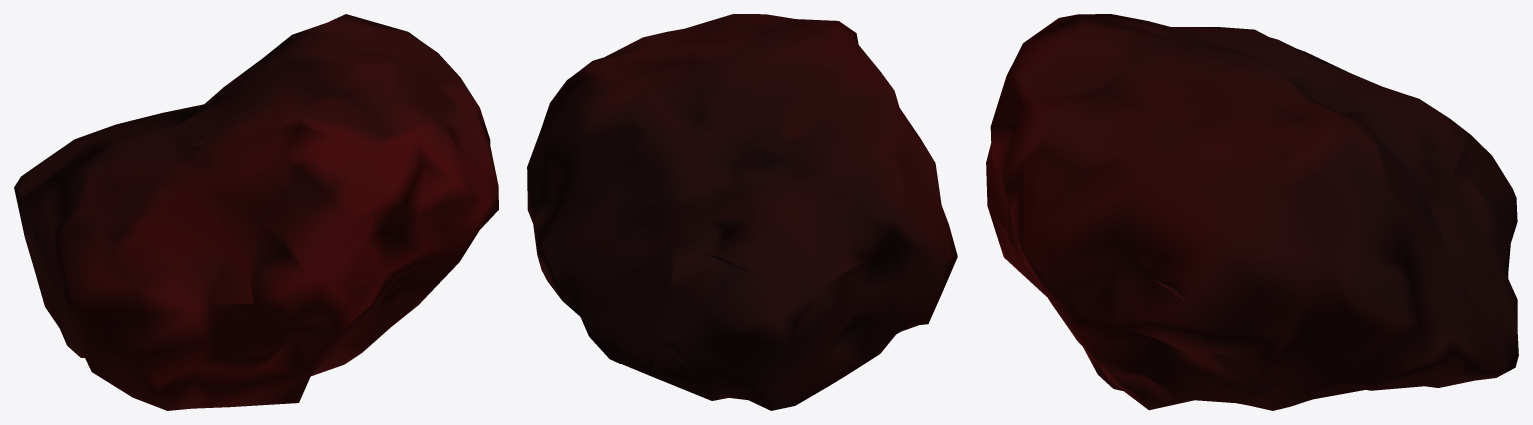
File: geology-rocks-meteoritemedium_v2.fbx
3 renders of one model, left to right at view 1: azimuth 30°, elevation 25°; view 2: azimuth 150°, elevation 25°; view 3: azimuth 270°, elevation 25°, orthographic. The views are drawn at different scales.
Visible parts, largest first — view 1: MeteoriteMedium_v2; view 2: MeteoriteMedium_v2; view 3: MeteoriteMedium_v2.
Boxes of the visible parts, x1,y1,x2,y2 form: MeteoriteMedium_v2: (14, 14, 498, 410); MeteoriteMedium_v2: (527, 14, 957, 410); MeteoriteMedium_v2: (986, 14, 1518, 410).
Size of the model in its own units: 2.96 by 2.07 by 2.74.
